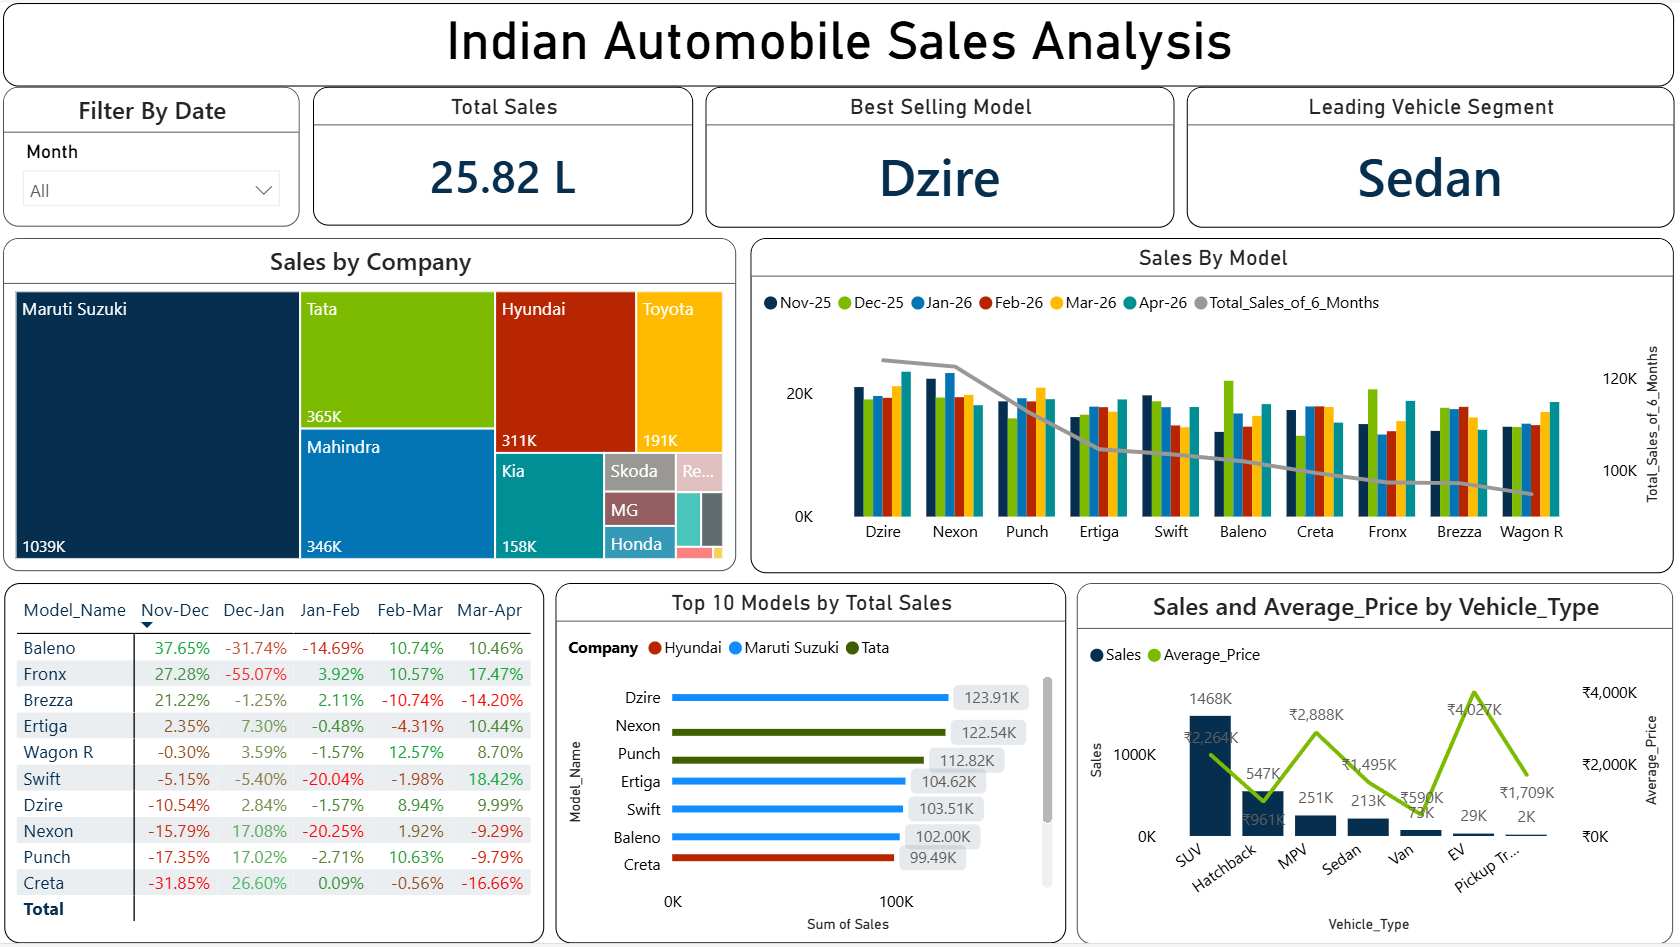

Layout of this report page (visuals, bound fields, positions):
{"tool":"powerbi","page":{"name":"Page 1","canvas":[1280,720],"ordinal":0},"visuals":[{"type":"group","id":"g1","title":"Group 1","box":[0,64,1280,657.1],"z":0},{"type":"treemap","title":"Sales by Company ","fields":{"Group":["sales_final.Company Hierarchy.Company","sales_final.Company Hierarchy.Model_Name"],"Values":["Sum(Sales_Dim.Sales)"]},"box":[0,180.1,561.8,254.8],"z":0,"group":"g1"},{"type":"textbox","title":"Indian Automobile Sales Analysis","box":[0,0,1280,64],"z":1000},{"type":"lineClusteredColumnComboChart","fields":{"Category":["product_details.Vehicle_Type"],"Y":["Sum(Sales_Dim.Sales)"],"Y2":["Avg(product_details.Average_Price)"]},"box":[822.9,444.6,457.1,276.6],"z":1000,"group":"g1"},{"type":"lineClusteredColumnComboChart","title":"Sales By Model","fields":{"Y":["Sum(sales_final.Nov-25)","Sum(sales_final.Dec-25)","Sum(sales_final.Jan-26)","Sum(sales_final.Feb-26)","Sum(sales_final.Mar-26)","Sum(sales_final.Apr-26)"],"Y2":["Sum(sales_final.Total_Sales_of_6_Months)"],"Category":["sales_final.Company Hierarchy.Model_Name"]},"box":[572.4,180.1,707.6,257.2],"z":2000,"group":"g1"},{"type":"clusteredBarChart","title":"Top 10 Models by Total Sales ","fields":{"Y":["Sum(Sales_Dim.Sales)"],"Category":["sales_final.Company Hierarchy.Model_Name"],"Series":["Sales_Dim.Company"]},"box":[423.1,444.4,391.1,276.1],"z":3000,"group":"g1"},{"type":"slicer","title":"Filter By Date","fields":{"Values":["Sales_Dim.Month-Year.Variation.Date Hierarchy.Month"]},"box":[0,64,227.1,106.8],"z":4000,"group":"g1"},{"type":"pivotTable","fields":{"Rows":["sales_final.Company Hierarchy.Model_Name"],"Values":["Avg(sales_final.MoM%(Nov-Dec))","Avg(sales_final.MoM%(Dec-Jan))","Avg(sales_final.MoM%(Jan-Feb))","Avg(sales_final.MoM%(Feb-Mar))","Avg(sales_final.MoM%(Mar-Apr))"]},"box":[1.2,444.4,413.6,276.1],"z":5000,"group":"g1"},{"type":"cardVisual","title":"Total Sales","fields":{"Data":["Sales_Dim.Total_Sales"]},"box":[237,64,291.6,106.7],"z":6000,"group":"g1"},{"type":"cardVisual","title":"Best Selling Model","fields":{"Data":["Sales_Dim.Best_Selling_Model_"]},"box":[538.1,64,359.1,107.9],"z":7000,"group":"g1"},{"type":"cardVisual","title":"Leading Vehicle Segment","fields":{"Data":["Sales_Dim.Best_Selling_Vehicle_Type"]},"box":[906.7,64,373.3,107.9],"z":8000,"group":"g1"}]}

Visuals, with their boxes in screenshot pixels (x1, y1, x2, y2), scaled from the page's 1280x720 canvas onto the 1680x947 screenshot:
"Group 1" group: (0,84,1679,946)
"Sales by Company " treemap: (0,237,737,572)
"Indian Automobile Sales Analysis" textbox: (0,0,1679,84)
lineClusteredColumnComboChart - product_details.Vehicle_Type x Sum(Sales_Dim.Sales): (1080,585,1679,946)
"Sales By Model" lineClusteredColumnComboChart: (751,237,1679,575)
"Top 10 Models by Total Sales " clusteredBarChart: (555,585,1069,946)
"Filter By Date" slicer: (0,84,298,225)
pivotTable - sales_final.Company Hierarchy.Model_Name x Avg(sales_final.MoM%(Nov-Dec)): (2,585,544,946)
"Total Sales" cardVisual: (311,84,694,225)
"Best Selling Model" cardVisual: (706,84,1178,226)
"Leading Vehicle Segment" cardVisual: (1190,84,1679,226)
